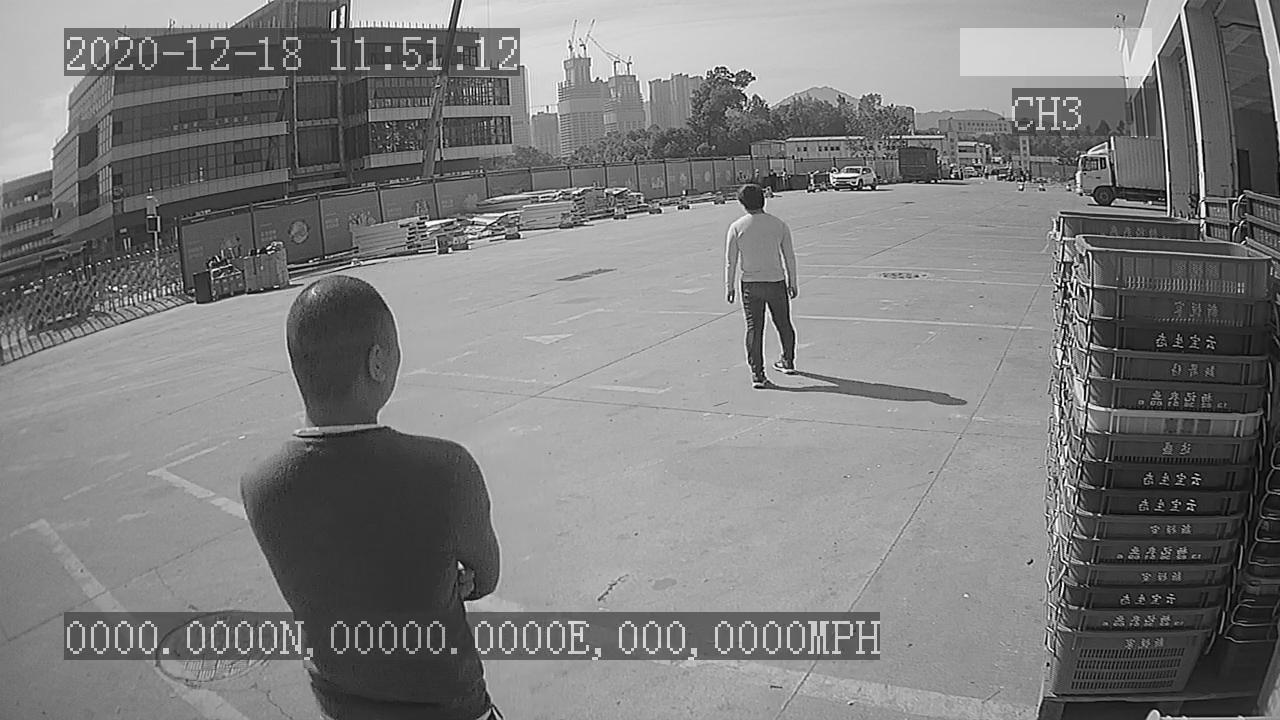person: (715, 177, 804, 395)
